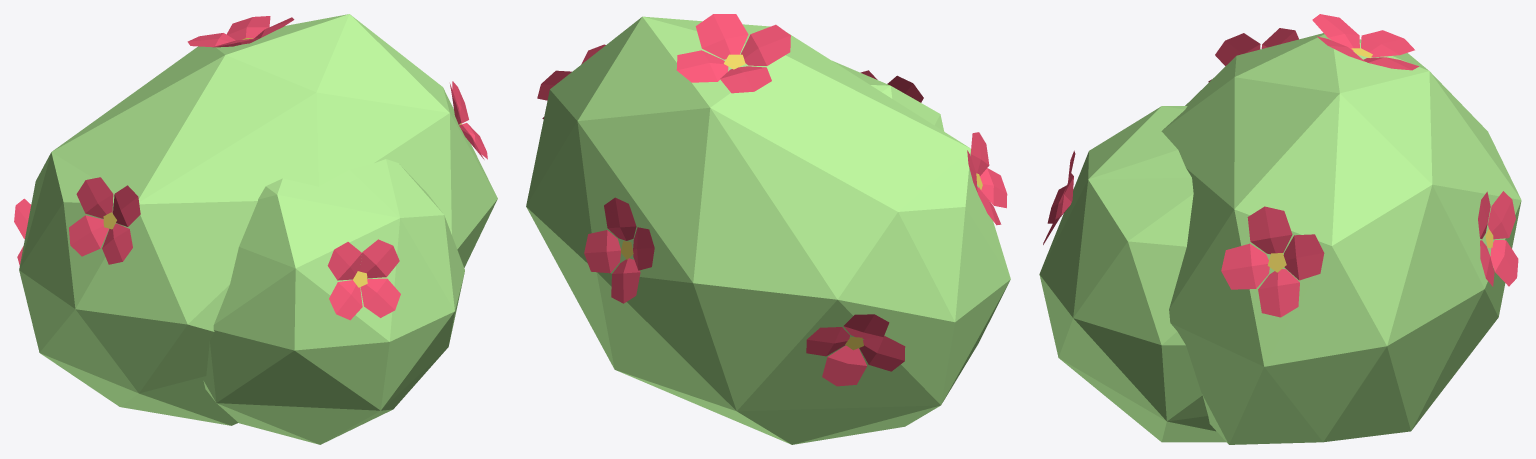
Rendered from FlowerBush_d_m_02.fbx.
3 views of the same model, side by side, from view 1: azimuth 30°, elevation 25°; view 2: azimuth 150°, elevation 25°; view 3: azimuth 270°, elevation 25° (orthographic). The views are drawn at different scales.
Visible parts, largest first — view 1: FlowerBush_d_m_02; view 2: FlowerBush_d_m_02; view 3: FlowerBush_d_m_02.
Boxes of the visible parts, x1,y1,x2,y2 form: FlowerBush_d_m_02: (14, 14, 497, 444); FlowerBush_d_m_02: (526, 14, 1010, 444); FlowerBush_d_m_02: (1039, 14, 1521, 444).
Bounding box in the file's own units: 157 × 129 × 137.
